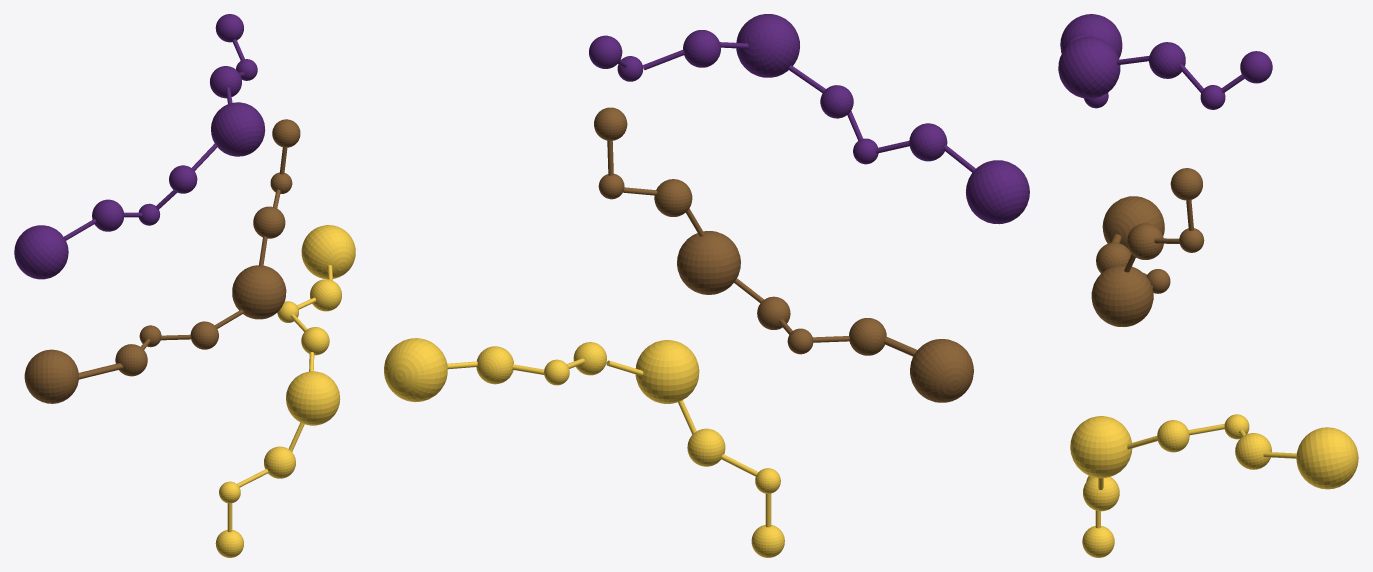
The model's file is newmolecule.gltf.
3 views of the same model, side by side, from view 1: azimuth 30°, elevation 25°; view 2: azimuth 150°, elevation 25°; view 3: azimuth 270°, elevation 25° (orthographic). The views are drawn at different scales.
Visible parts, largest first — view 1: MSP1, MSY4, MSB1, MSP5, MSB5, MSY8, MSB6, MSY3, MSP2, MSY7, MSB2, MSP6 (+6 smaller); view 2: MSB1, MSY8, MSP1, MSB5, MSY4, MSP5, MSY3, MSP2, MSB6, MSP6, MSB2, MSY7 (+6 smaller); view 3: MSY8, MSP5, MSY4, MSB5, MSB1, MSP1, MSP6, MSB6, MSY7, MSY3, MSP8, MSY5 (+7 smaller).
Part boxes in pixels (box(x1,y1,x2,y2)): MSP1: box(14, 225, 68, 279); MSY4: box(286, 371, 340, 425); MSB1: box(24, 349, 78, 403); MSP5: box(211, 102, 265, 156); MSB5: box(232, 265, 286, 319); MSY8: box(301, 225, 355, 279); MSB6: box(253, 206, 285, 238); MSY3: box(264, 446, 295, 478); MSP2: box(92, 199, 124, 231); MSY7: box(310, 279, 341, 311); MSB2: box(115, 344, 147, 376); MSP6: box(210, 66, 241, 98); MSB1: box(910, 339, 973, 402); MSY8: box(384, 338, 447, 402); MSP1: box(966, 160, 1029, 224); MSB5: box(677, 231, 740, 294); MSY4: box(635, 340, 699, 403); MSP5: box(736, 14, 799, 77); MSY3: box(687, 428, 725, 466); MSP2: box(909, 123, 947, 161); MSB6: box(654, 179, 692, 216); MSP6: box(683, 30, 720, 67); MSB2: box(849, 318, 886, 355); MSY7: box(476, 346, 513, 384); MSY8: box(1296, 427, 1358, 489); MSP5: box(1058, 36, 1120, 98); MSY4: box(1070, 416, 1132, 478); MSB5: box(1091, 265, 1153, 326); MSB1: box(1102, 196, 1164, 257); MSP1: box(1060, 14, 1122, 58); MSP6: box(1149, 42, 1185, 78); MSB6: box(1127, 223, 1163, 259); MSY7: box(1235, 433, 1271, 469); MSY3: box(1083, 477, 1119, 511); MSP8: box(1240, 51, 1272, 83); MSY5: box(1157, 420, 1189, 452).
Bounding box in the file's own units: 22.54 × 23.34 × 11.71.
5 materials, 1 textured.
